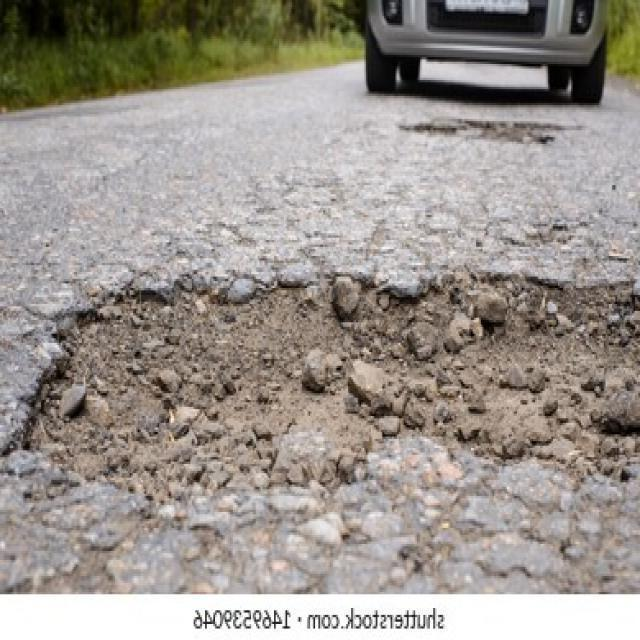pothole: (11, 261, 640, 508), (396, 119, 585, 144)
